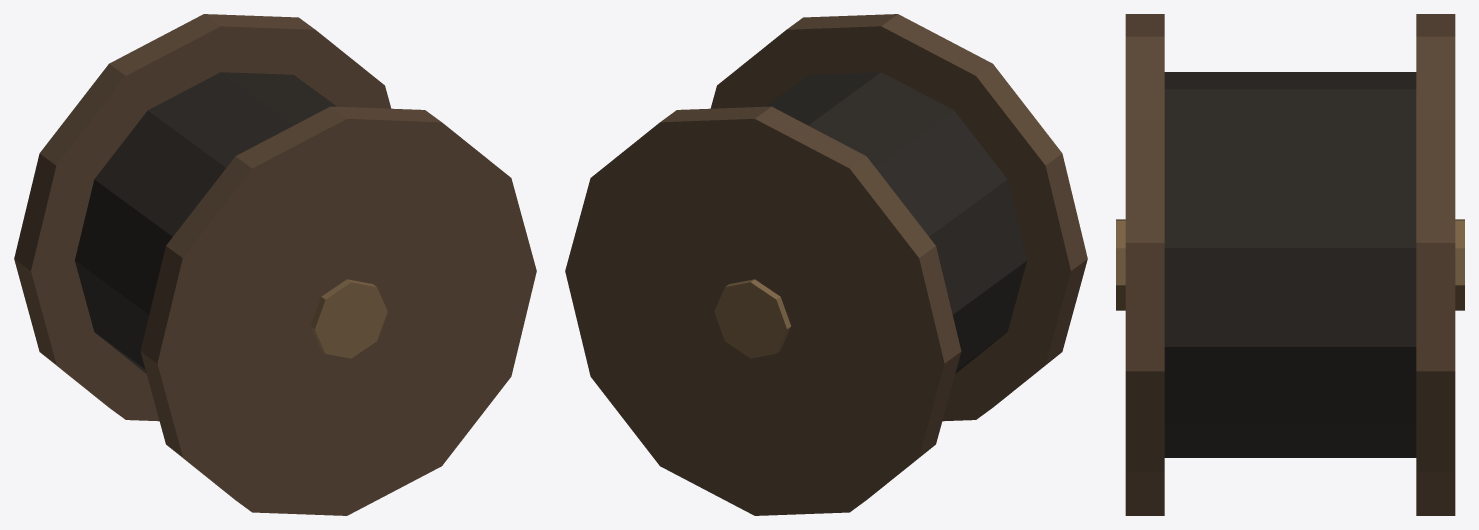
File: P_CableSpool.glb
The picture shows the model from 3 angles, left to right: view 1: azimuth 30°, elevation 25°; view 2: azimuth 150°, elevation 25°; view 3: azimuth 270°, elevation 25°; orthographic projection. The views are drawn at different scales.
Visible parts, largest first — view 1: P_CableSpool; view 2: P_CableSpool; view 3: P_CableSpool.
Part boxes in pixels (box(x1,y1,x2,y2)): P_CableSpool: box(14, 14, 536, 515); P_CableSpool: box(565, 14, 1087, 515); P_CableSpool: box(1116, 14, 1464, 515).
Size of the model in its own units: 1.04 by 1.04 by 0.72.
